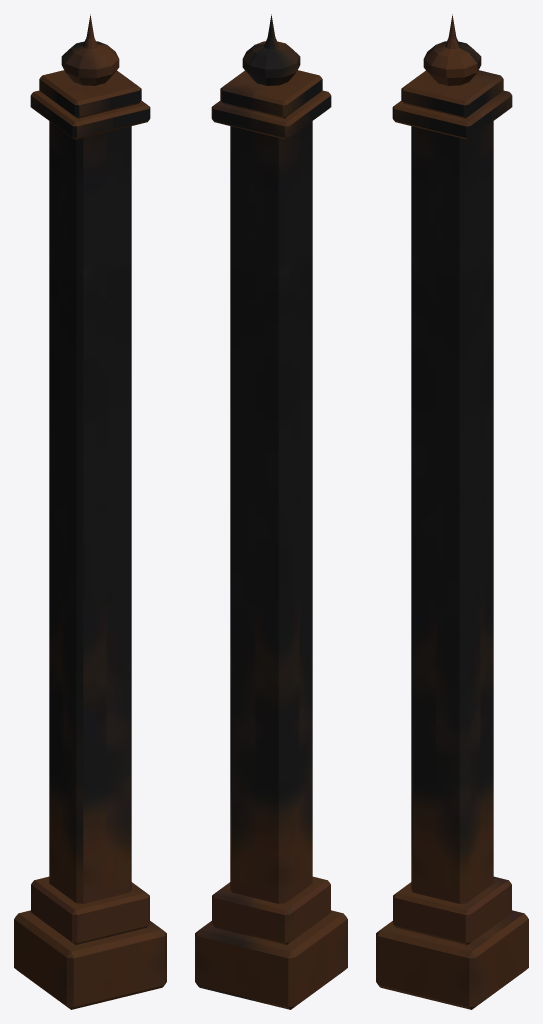
Rendered from pr_fpost.glb.
The picture shows the model from 3 angles, left to right: view 1: azimuth 30°, elevation 25°; view 2: azimuth 150°, elevation 25°; view 3: azimuth 330°, elevation 25°; orthographic projection.
Parts seen in each view (by area): view 1: pr_fpost; view 2: pr_fpost; view 3: pr_fpost.
Part boxes in pixels (box(x1,y1,x2,y2)): pr_fpost: box(14, 14, 166, 1009); pr_fpost: box(195, 14, 347, 1009); pr_fpost: box(376, 14, 528, 1009).
Size of the model in its own units: 0.18 by 1.66 by 0.18.
Materials: 1 (1 with a texture image).
